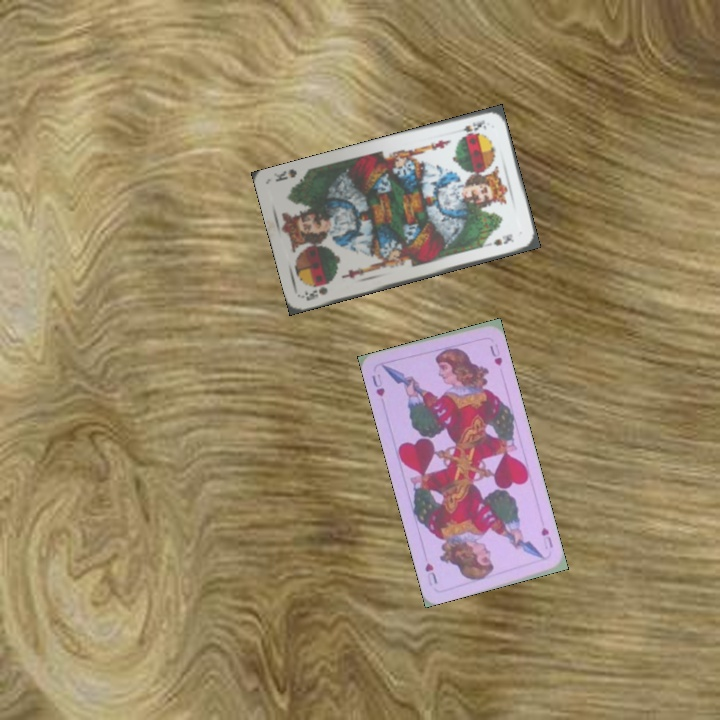HU: (368, 369, 387, 399), (537, 523, 556, 552)
SK: (450, 116, 489, 137), (300, 282, 330, 303)
